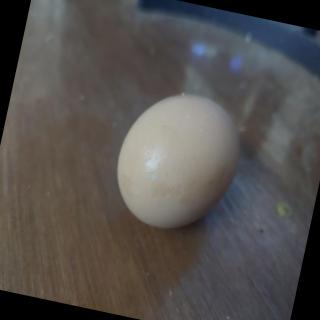Telur: (103, 77, 255, 247)
